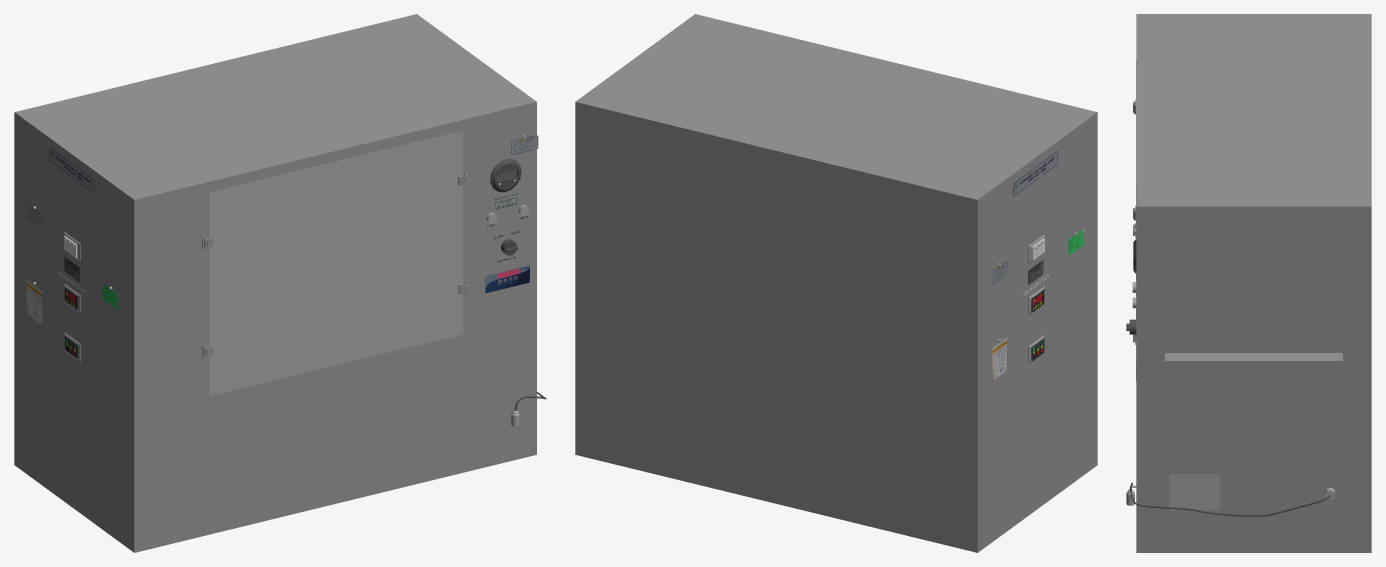
The model's file is MOBILE_LAF.fbx.
3 views of the same model, side by side, from view 1: azimuth 30°, elevation 25°; view 2: azimuth 150°, elevation 25°; view 3: azimuth 270°, elevation 25° (orthographic).
Parts seen in each view (by area): view 1: Mobile_LAF:pCube1, polySurface3, polySurface2, Mobile_LAF:pCube8, pCylinder10, pCube20; view 2: Mobile_LAF:pCube1, pCube20; view 3: Mobile_LAF:pCube1, pCube4, sweep1.
Boxes of the visible parts, x1,y1,x2,y2 form: Mobile_LAF:pCube1: (14, 14, 536, 552); polySurface3: (335, 131, 468, 365); polySurface2: (204, 162, 335, 396); Mobile_LAF:pCube8: (485, 265, 529, 293); pCylinder10: (490, 158, 521, 192); pCube20: (49, 147, 94, 194); Mobile_LAF:pCube1: (575, 14, 1097, 552); pCube20: (1013, 150, 1058, 197); Mobile_LAF:pCube1: (1136, 14, 1371, 552); pCube4: (1169, 474, 1220, 510); sweep1: (1129, 482, 1330, 516).
Size of the model in its own units: 42.82 by 34.24 by 22.
